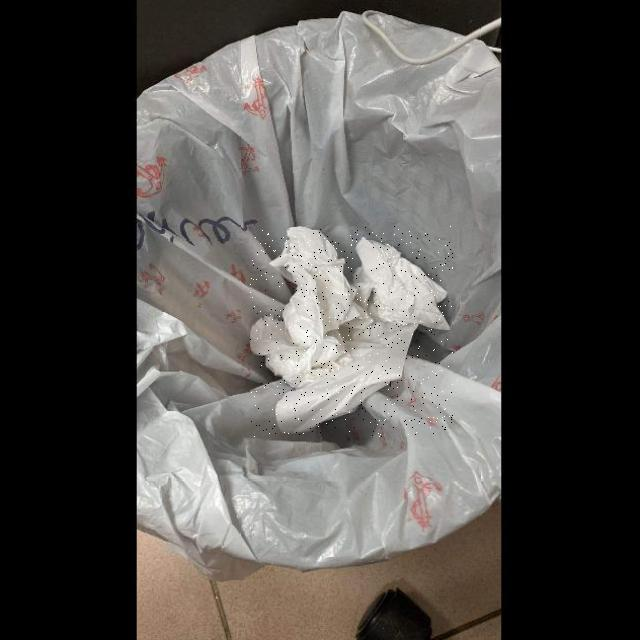paper: (251, 227, 453, 437)
